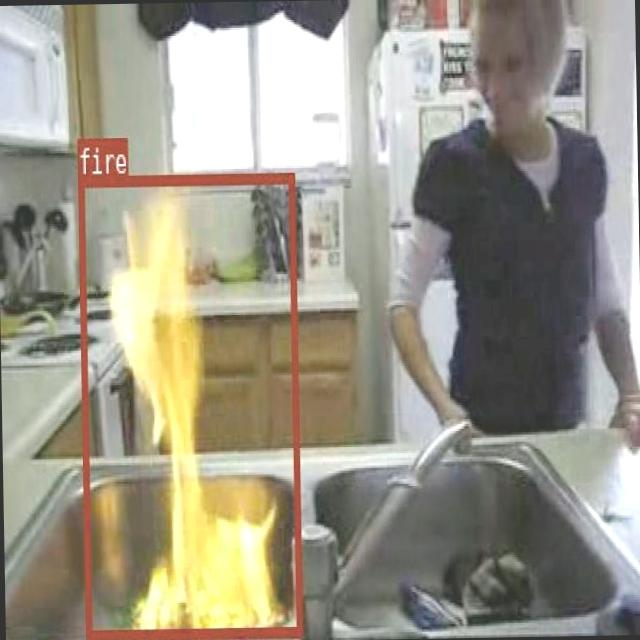fire: (76, 171, 302, 638)
